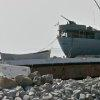Boat: (52, 13, 100, 58)
